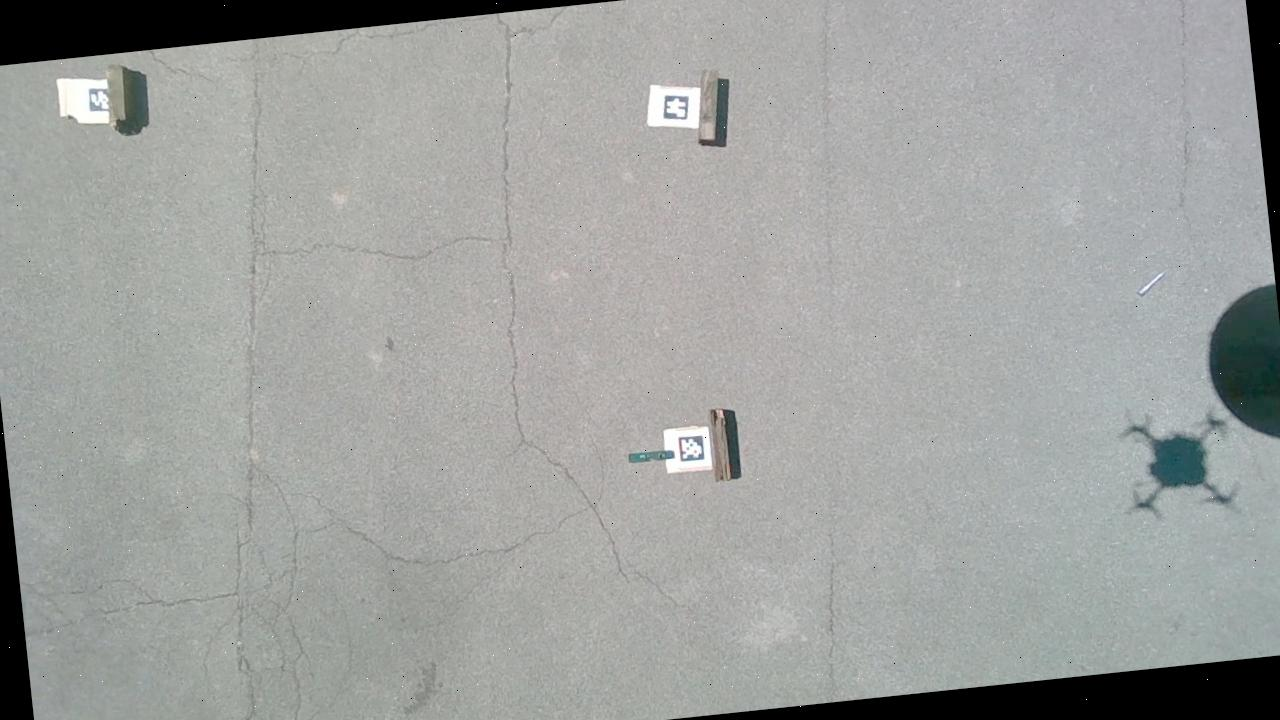probes: (1136, 272, 1167, 296)
